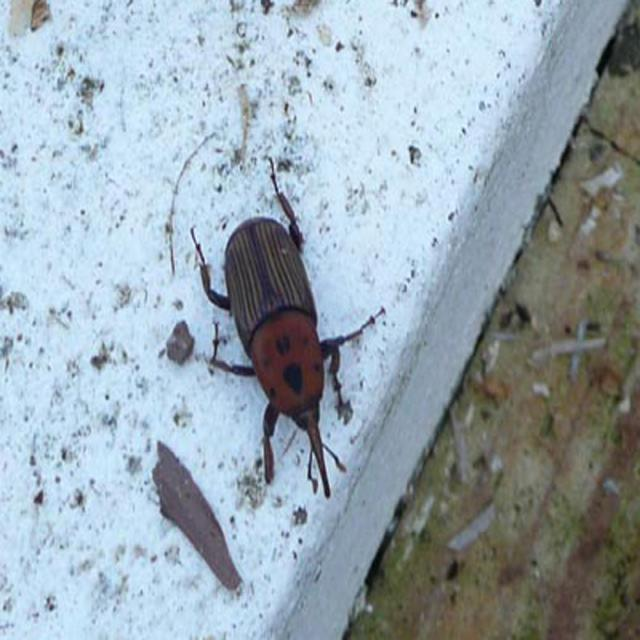Red-palm-weevil: (218, 215, 346, 503)
